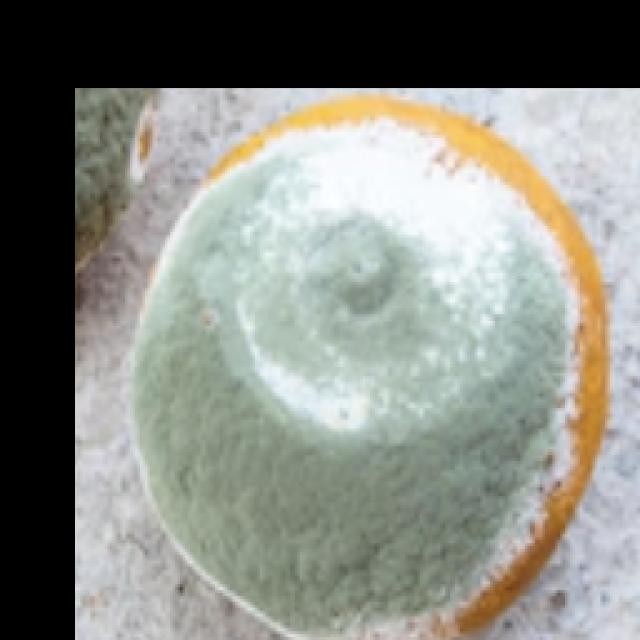sangat_busuk: (127, 97, 604, 637)
